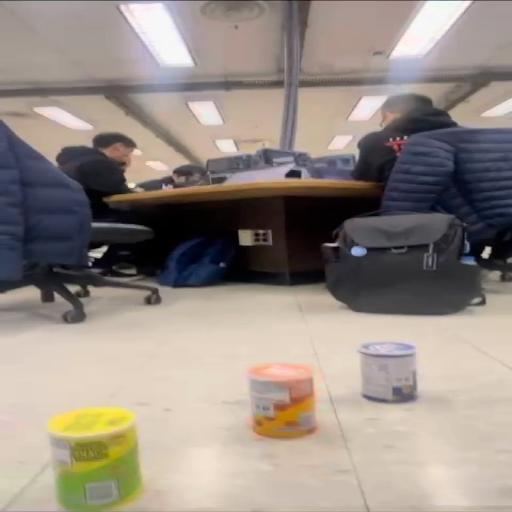pringle can: (44, 407, 147, 510), (246, 362, 322, 439), (357, 339, 423, 406)
